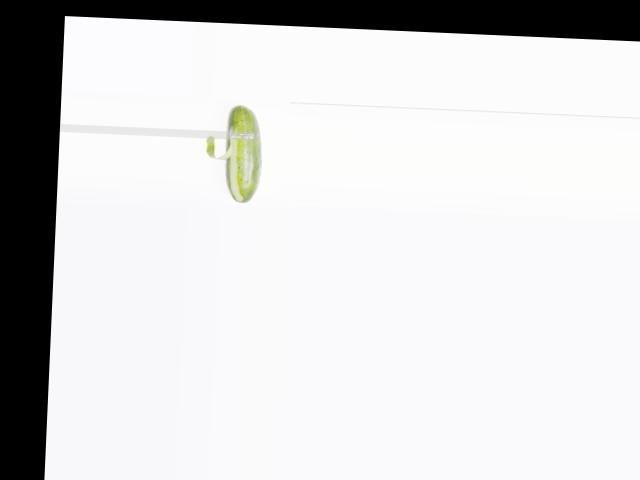cucumber: (222, 104, 263, 203)
